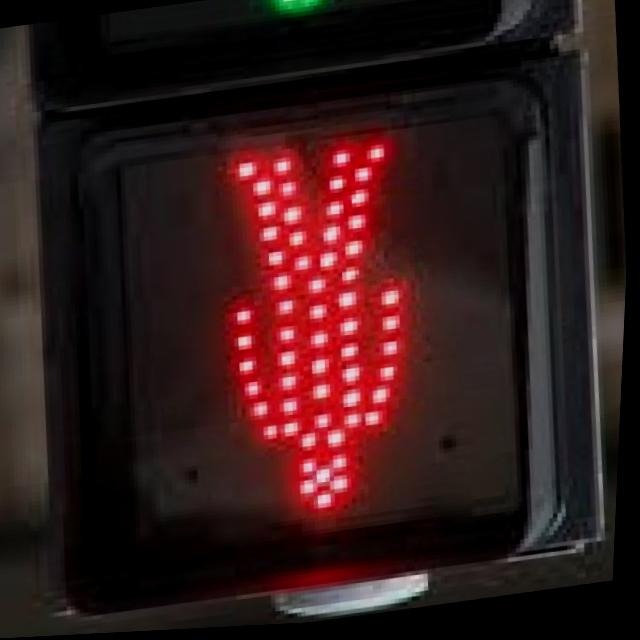red_light: (181, 119, 466, 573)
